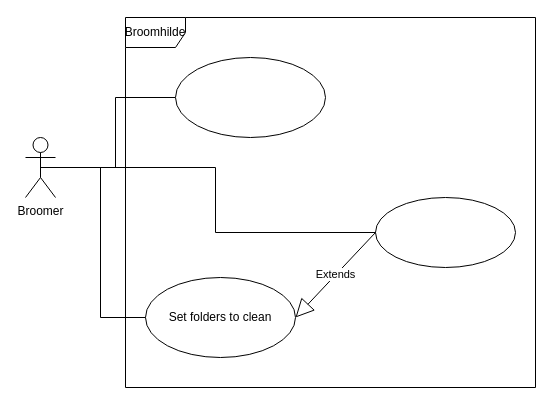
This 553x405 diagram has some shape labels left out. The shapes that lost their labels are listed below. From the top down, each one's centre as x and y in pixels, then its label:
the point at 250,97: Sweap (execute file organization)
the point at 445,232: Set organization strategy
